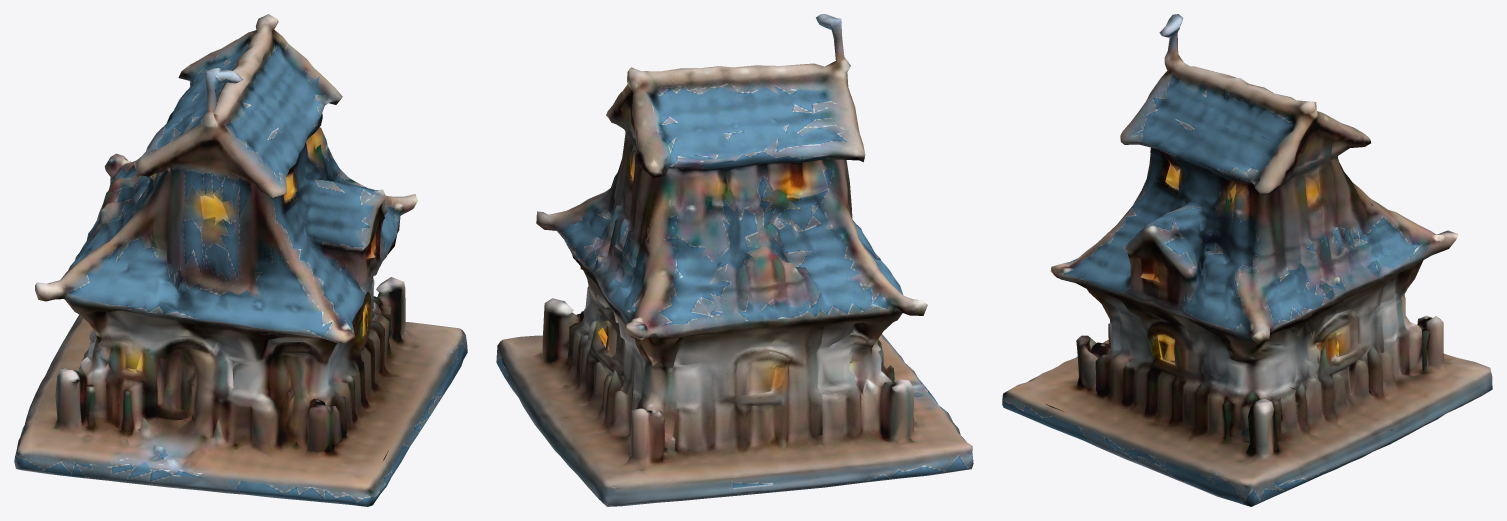
File: keep_l1.glb
3 views of the same model, side by side, from view 1: azimuth 30°, elevation 25°; view 2: azimuth 150°, elevation 25°; view 3: azimuth 270°, elevation 25° (orthographic). The views are drawn at different scales.
Parts seen in each view (by area): view 1: keep_l1; view 2: keep_l1; view 3: keep_l1.
Boxes of the visible parts, left/top/right/bottom form: keep_l1: left=14, top=14, right=467, bottom=506; keep_l1: left=496, top=14, right=973, bottom=506; keep_l1: left=1002, top=14, right=1492, bottom=506.
Bounding box in the file's own units: 4.48 × 3.61 × 4.42.
3 materials, 3 textured.
